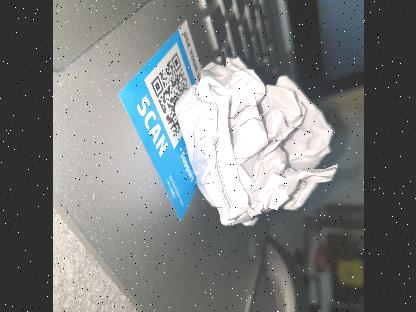Others: (171, 59, 348, 235)
